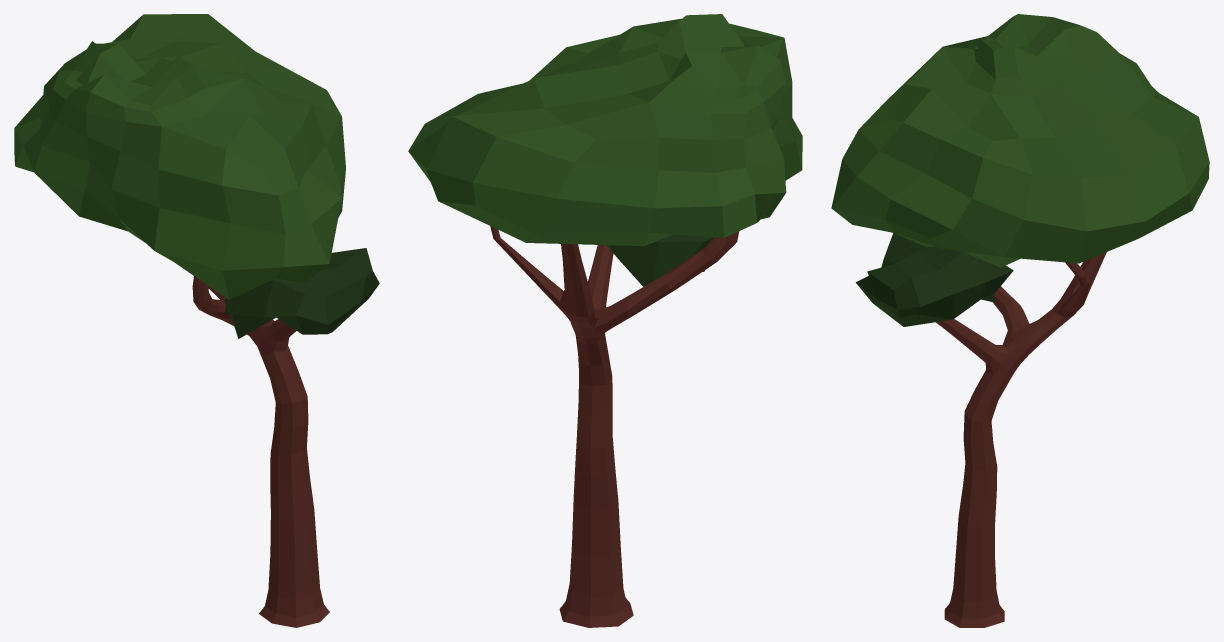
File: prop_CommonTree_4.glb
The picture shows the model from 3 angles, left to right: view 1: azimuth 30°, elevation 25°; view 2: azimuth 150°, elevation 25°; view 3: azimuth 270°, elevation 25°; orthographic projection. The views are drawn at different scales.
Visible parts, largest first — view 1: CommonTree_4; view 2: CommonTree_4; view 3: CommonTree_4.
Part boxes in pixels (left/top/right/bottom): CommonTree_4: left=14, top=14, right=379, bottom=627; CommonTree_4: left=408, top=14, right=802, bottom=627; CommonTree_4: left=831, top=14, right=1209, bottom=627.
Size of the model in its own units: 1.58 by 2.78 by 1.8.
